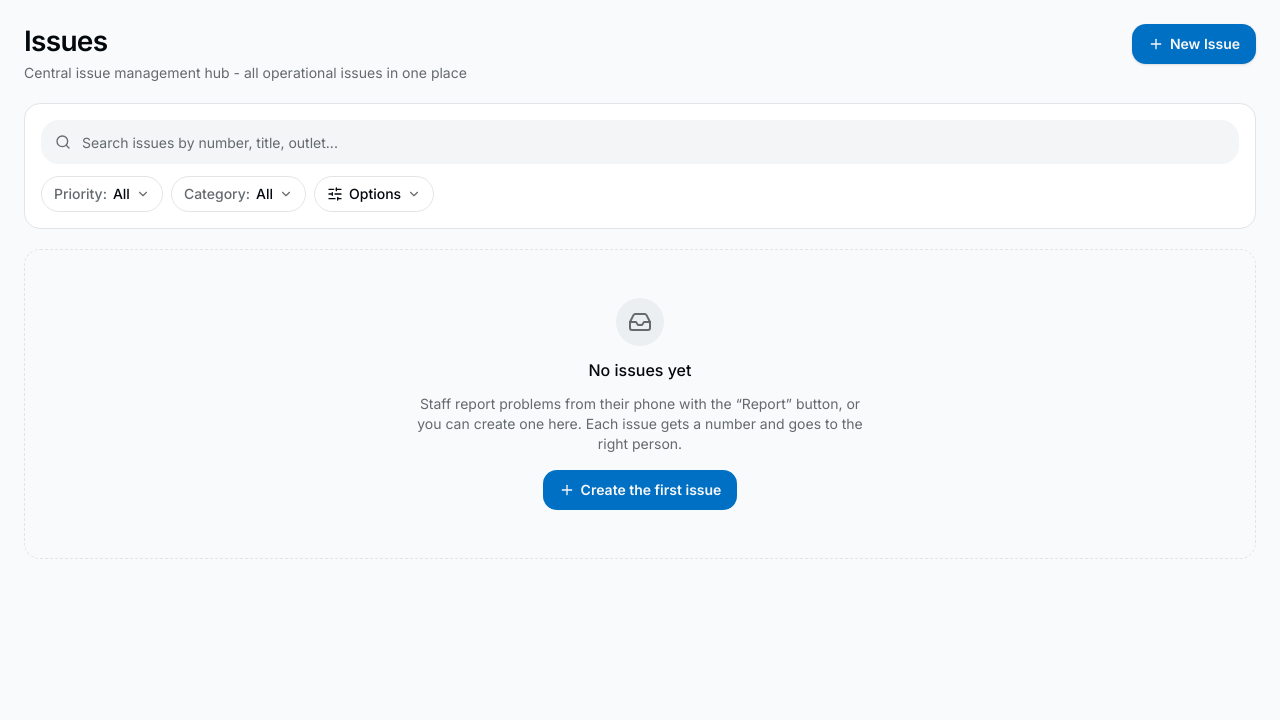
IssuesListPage — empty states (Todo-Pilot §24) › with no issues yet, explains where issues come from and offers to create one
The width and height of the screenshot is (1280, 720).
Expected: the message "No issues yet" shows "Staff report problems from their phone", top-left (417, 395), bottom-right (863, 452)
Click the button "Create the first issue" at coordinates (640, 490), box top-left (543, 470), bottom-right (737, 510)
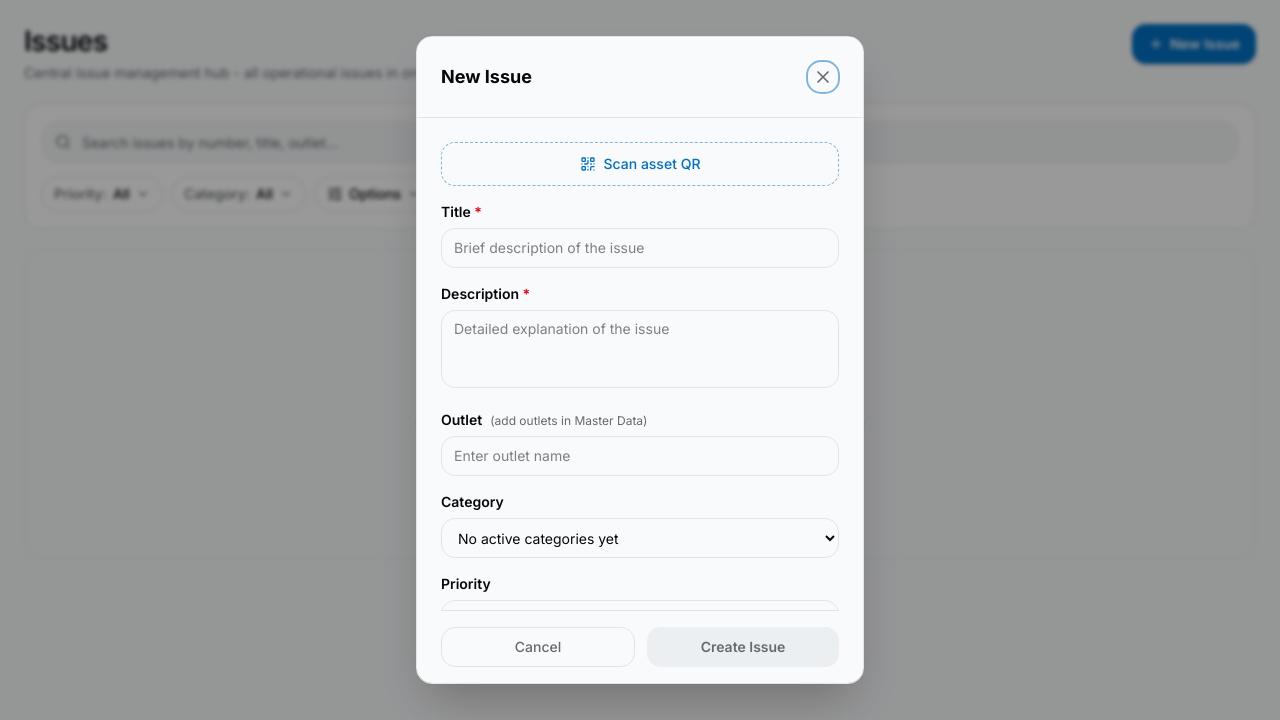
Expected: the dialog "New Issue" is shown, top-left (416, 36), bottom-right (864, 684)
